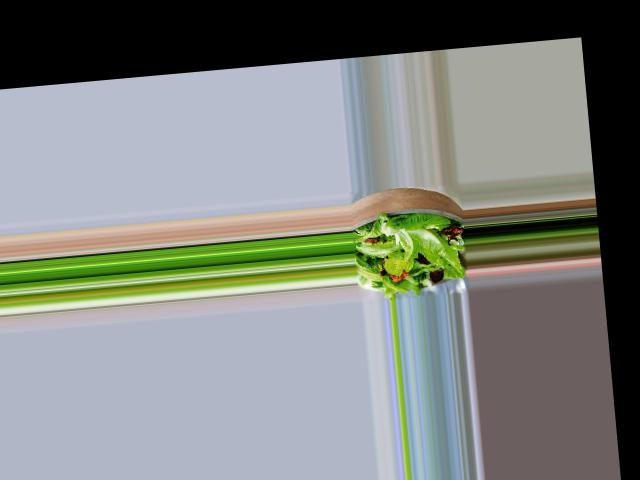lettuce: (357, 209, 458, 295)
